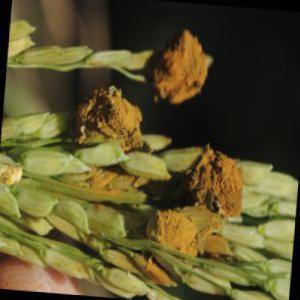Leaf_Scald: (153, 37, 206, 111), (183, 154, 248, 211), (160, 201, 220, 262), (86, 91, 140, 146), (145, 258, 175, 296)
